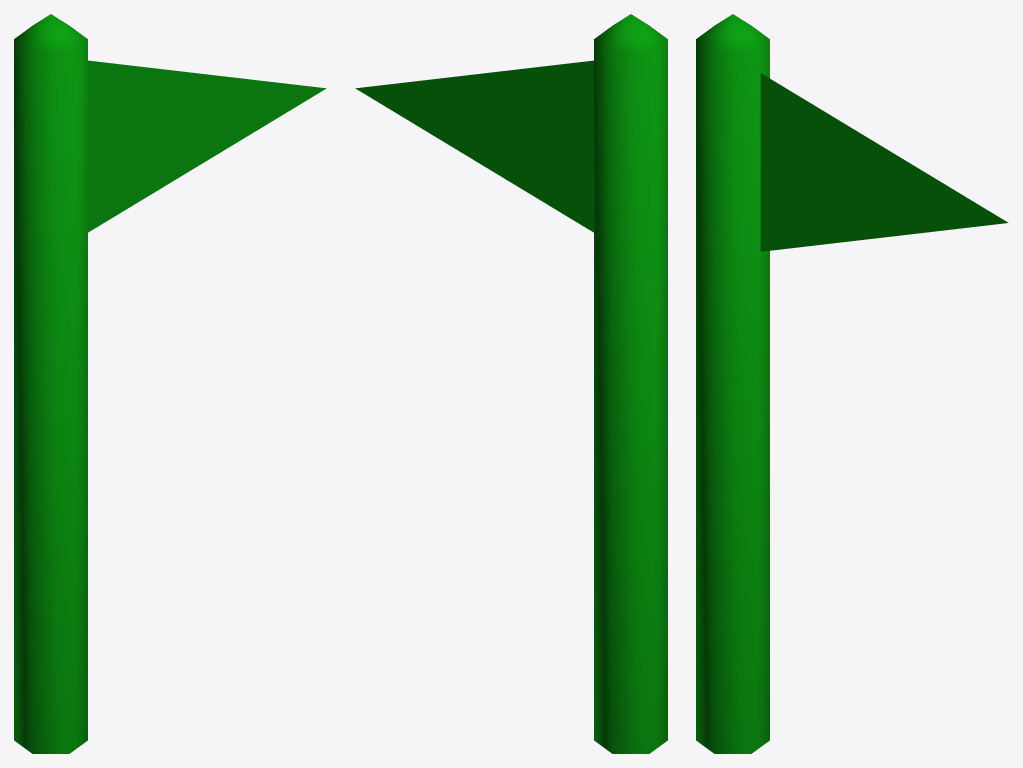
Rendered from marker_start.dae.
3 renders of one model, left to right at view 1: azimuth 30°, elevation 25°; view 2: azimuth 150°, elevation 25°; view 3: azimuth 330°, elevation 25°, orthographic.
Visible parts, largest first — view 1: Start_001; view 2: Start_001; view 3: Start_001.
Boxes of the visible parts, box(x1,y1,x2,y2) form: Start_001: box(14, 14, 326, 753); Start_001: box(355, 14, 667, 753); Start_001: box(696, 14, 1008, 753).
Bounding box in the file's own units: 0.0951 × 0.02 × 0.2175.
